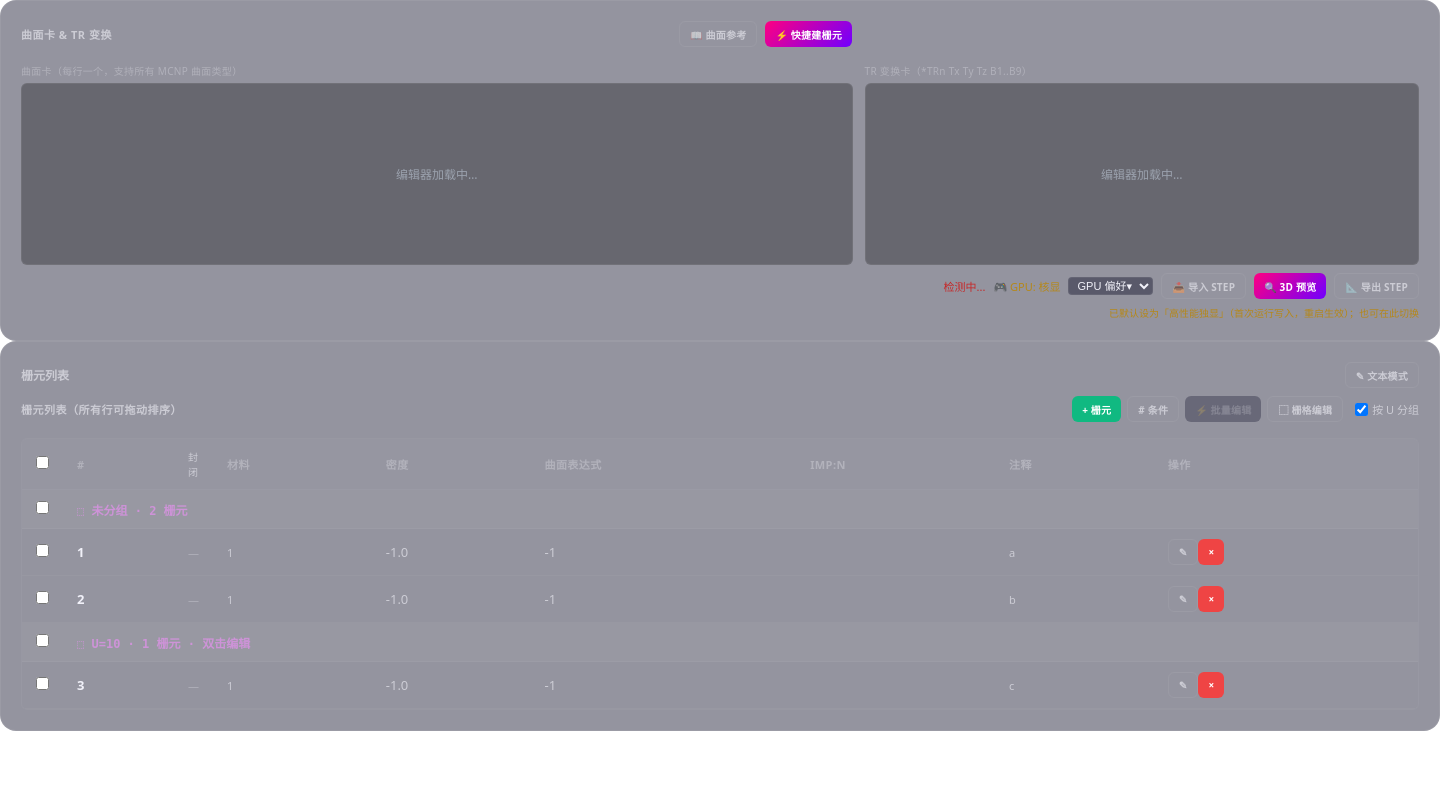
Test: 项9：U 组头文字双击内联编辑 › 双击组头 → 内联 input；输入 + 失焦 → deck.universeComments['10'] 更新 + 组头文案并入
Expected: the text "「" is not shown
Double-click the cell "⬚ U=10 · 1 栅元 · 双击编辑" at (740, 642), box [63,622,1418,662]
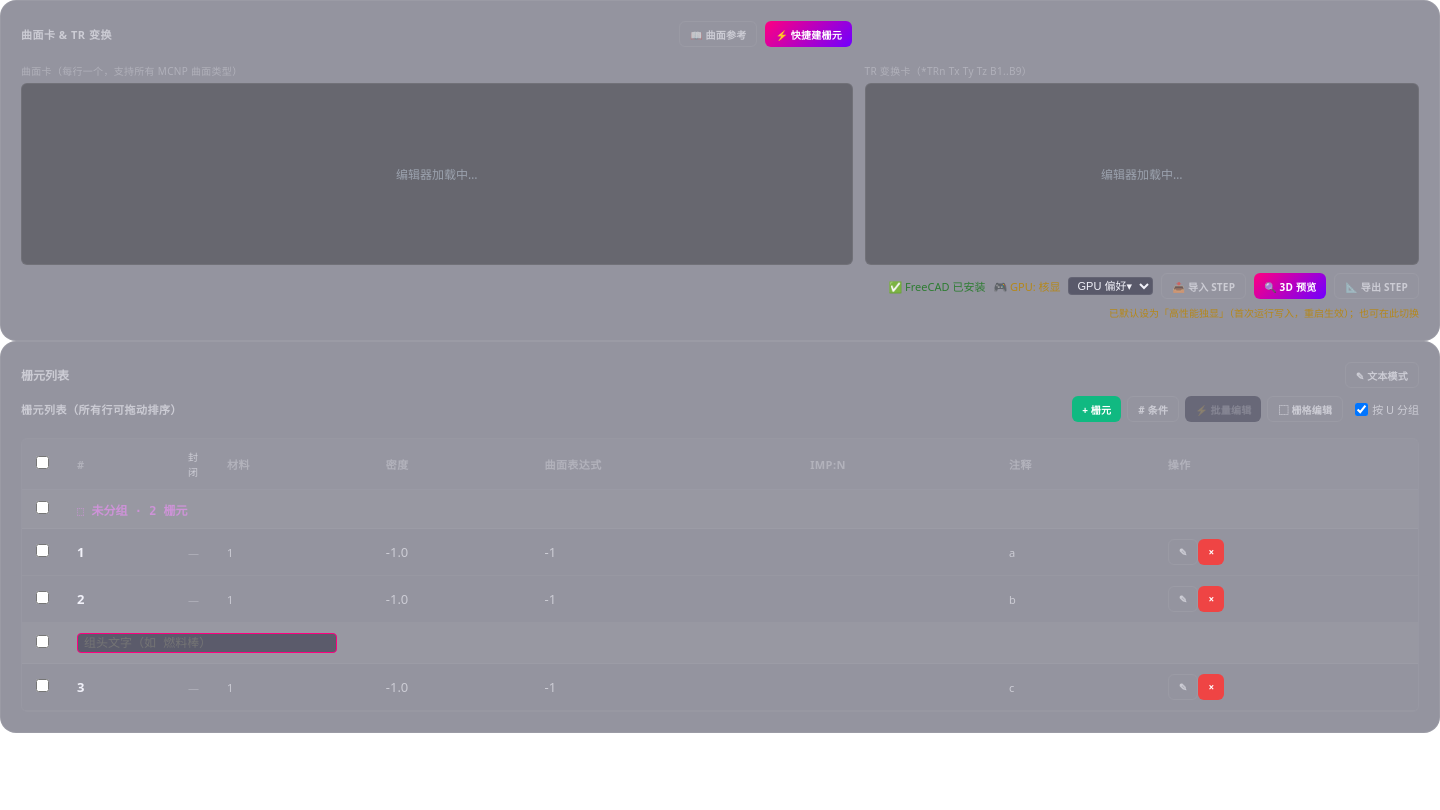
Result: the field with test id "group-comment-10" is shown
Type "燃料棒" into the field with test id "group-comment-10" at (207, 643), box [77,633,337,653]
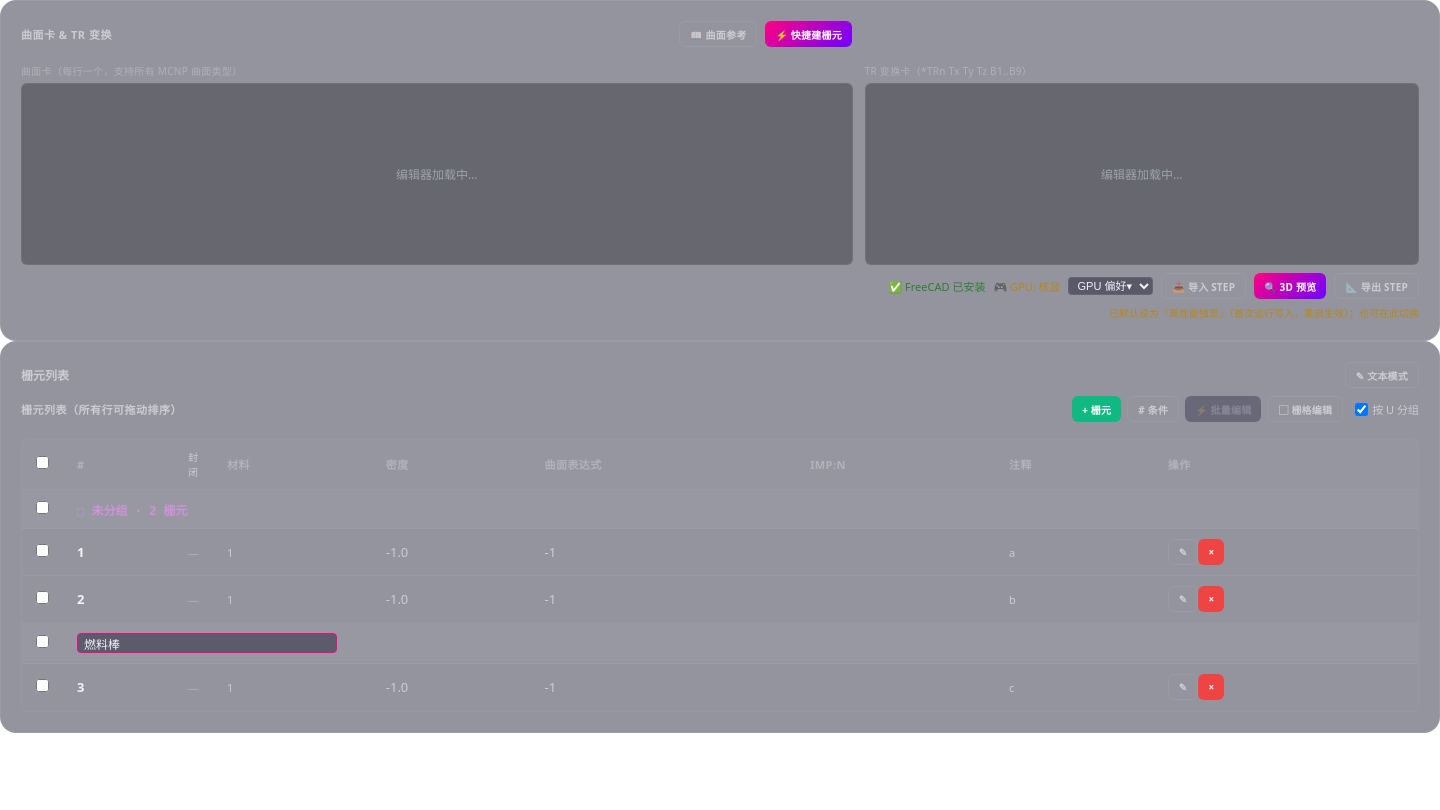
Leave the field with test id "group-comment-10", box [77,633,337,653]
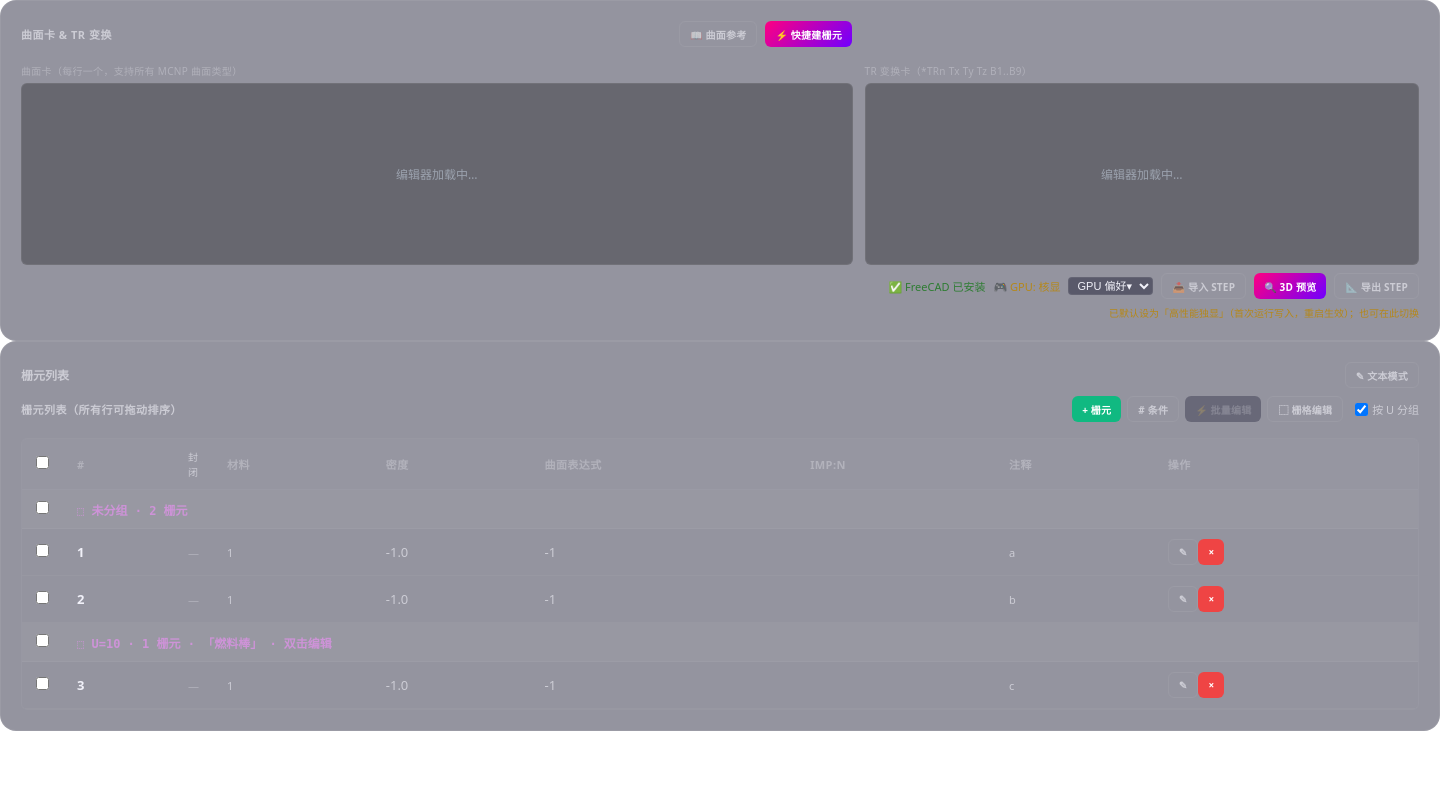
Result: the row "⬚ U=10 · 1 栅元 · 「燃料棒」 · 双击编辑" is shown at [22,622,1418,662]
